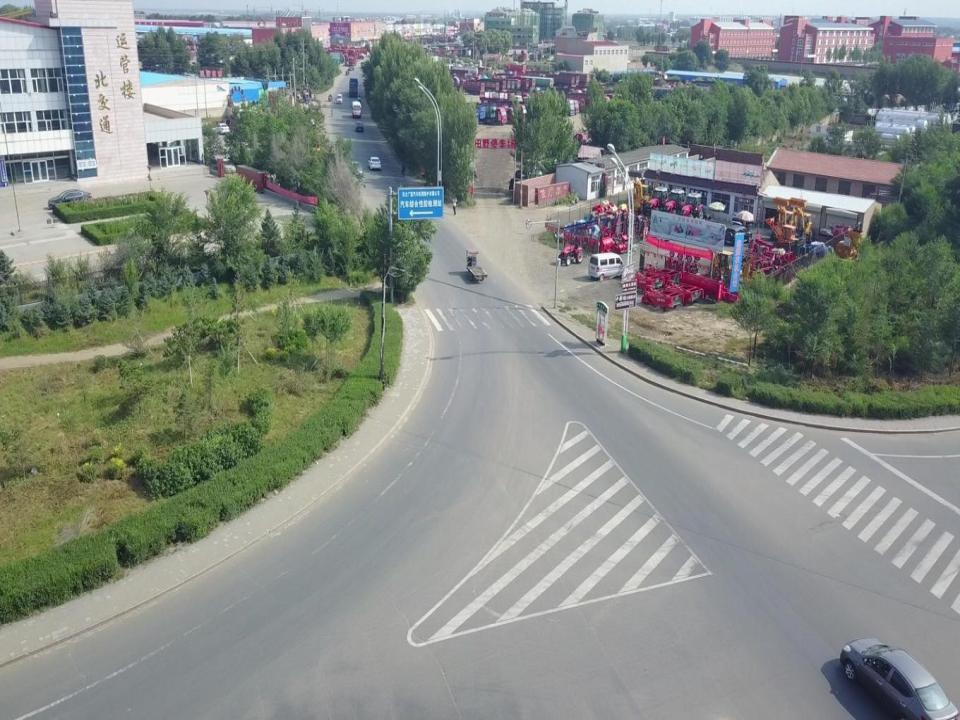bus: (351, 100, 361, 118)
car: (839, 639, 960, 720), (48, 190, 92, 208), (725, 222, 752, 246), (216, 158, 236, 174), (211, 122, 230, 134), (350, 160, 363, 177), (198, 124, 216, 136), (368, 156, 381, 170), (451, 192, 457, 215), (355, 121, 364, 131)
truck: (489, 101, 528, 123), (471, 103, 507, 125), (482, 104, 517, 126), (546, 97, 580, 117), (572, 95, 610, 111), (541, 99, 574, 117), (453, 78, 485, 95), (560, 97, 594, 113), (348, 77, 358, 97)
van: (590, 252, 626, 282), (336, 94, 342, 103), (357, 94, 361, 101)
